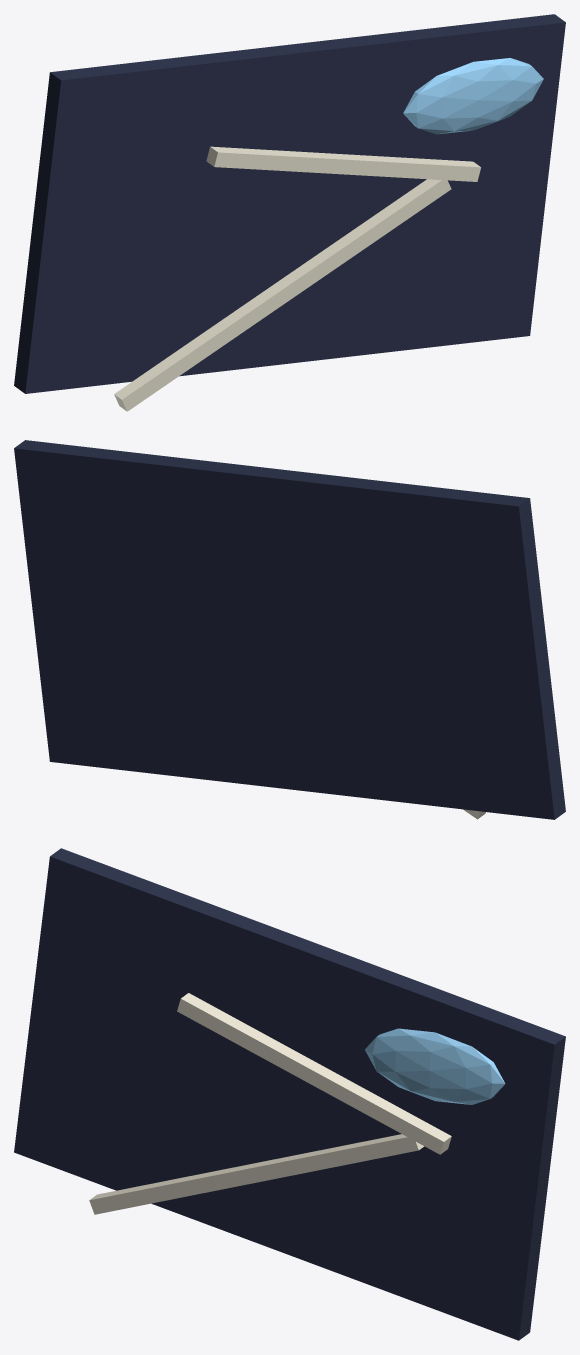
The model's file is 03_weathering_wear_overlay_3.glb.
3 views of the same model, one above another, from view 1: azimuth 30°, elevation 25°; view 2: azimuth 150°, elevation 25°; view 3: azimuth 330°, elevation 25° (orthographic).
Visible parts, largest first — view 1: wear_plate, scratch_a, rust_or_moss_spot, scratch_b; view 2: wear_plate; view 3: wear_plate, rust_or_moss_spot, scratch_b, scratch_a.
Boxes of the visible parts, x1=… form: wear_plate: x1=14, y1=14, x2=565, y2=393; scratch_a: x1=114, y1=179, x2=451, y2=411; rust_or_moss_spot: x1=403, y1=58, x2=543, y2=134; scratch_b: x1=206, y1=146, x2=480, y2=181; wear_plate: x1=14, y1=440, x2=565, y2=819; wear_plate: x1=14, y1=848, x2=565, y2=1340; rust_or_moss_spot: x1=365, y1=1028, x2=505, y2=1104; scratch_b: x1=177, y1=993, x2=451, y2=1154; scratch_a: x1=89, y1=1134, x2=424, y2=1214.
Bounding box in the file's own units: 1.38 × 0.9034 × 0.134.
